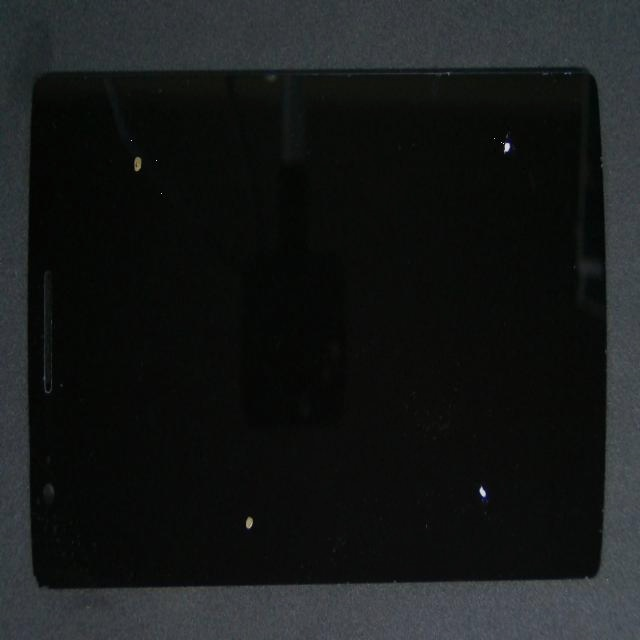stain: (227, 236, 640, 640), (141, 227, 373, 640), (270, 37, 640, 191), (55, 68, 192, 273)
